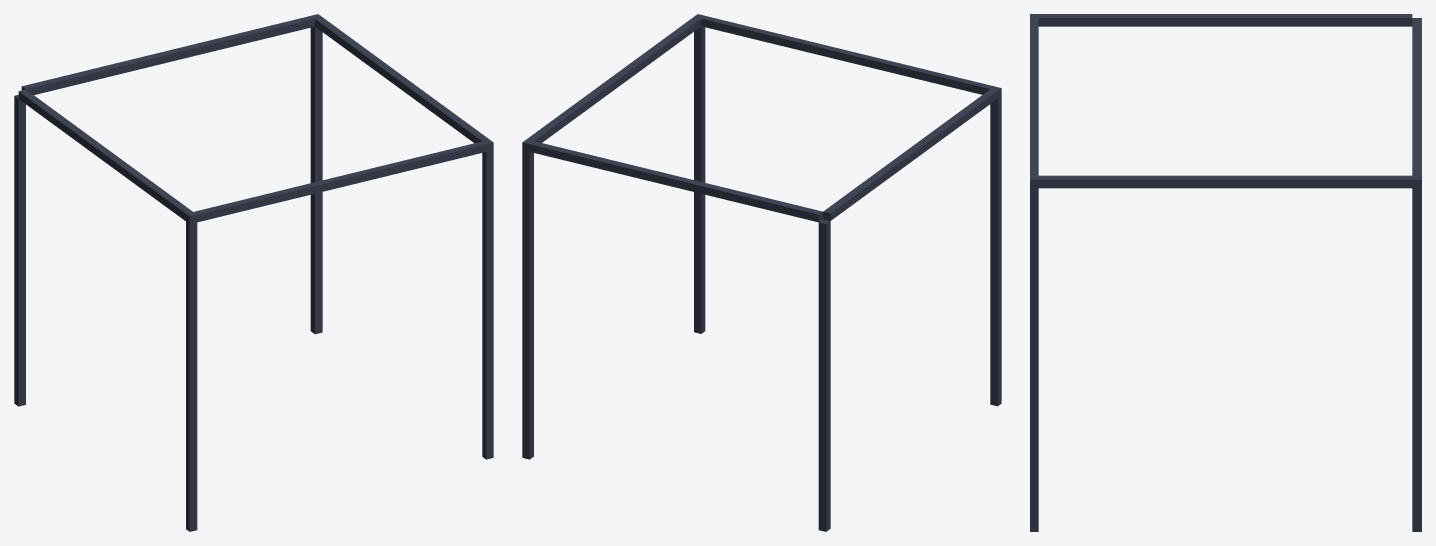
File: Empty Cube Frame Darker.glb
3 views of the same model, side by side, from view 1: azimuth 30°, elevation 25°; view 2: azimuth 150°, elevation 25°; view 3: azimuth 270°, elevation 25° (orthographic). The views are drawn at different scales.
Parts seen in each view (by area): view 1: mergedBlocks(Clone); view 2: mergedBlocks(Clone); view 3: mergedBlocks(Clone).
Boxes of the visible parts, x1=… form: mergedBlocks(Clone): x1=14, y1=14, x2=493, y2=531; mergedBlocks(Clone): x1=522, y1=14, x2=1001, y2=531; mergedBlocks(Clone): x1=1030, y1=14, x2=1421, y2=531.
Size of the model in its own units: 4.96 by 4.92 by 4.96.
